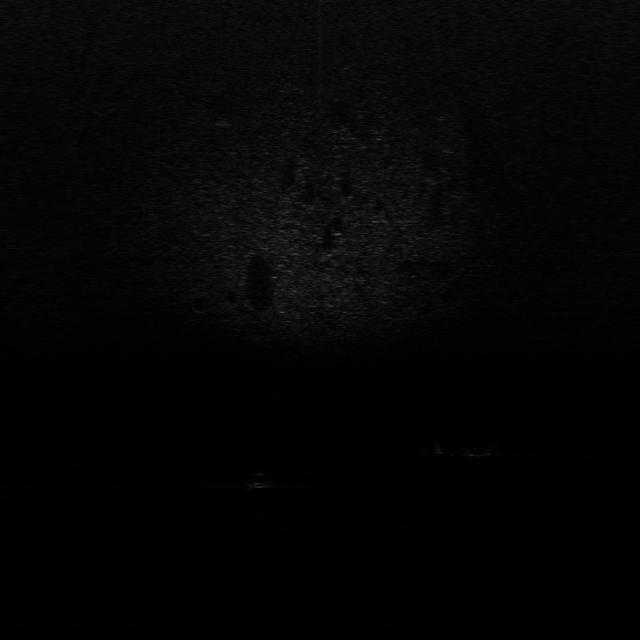ball: (241, 468, 277, 492)
human body: (419, 440, 533, 459)
